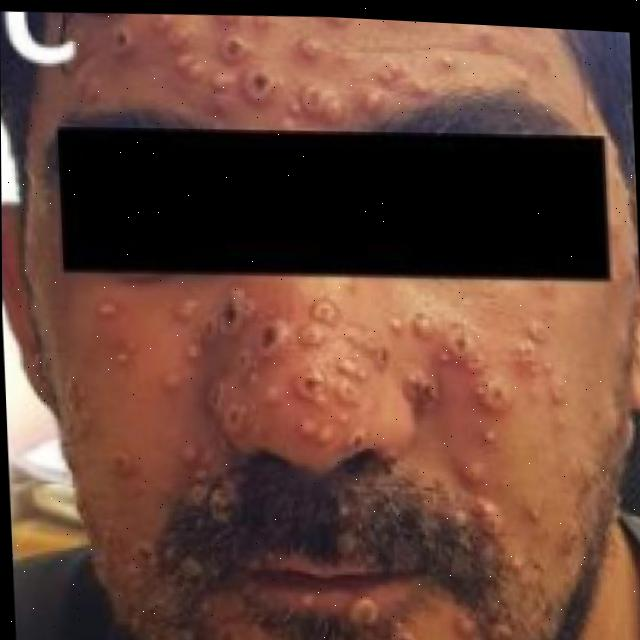Eczema: (108, 300, 538, 630), (176, 15, 400, 136)
